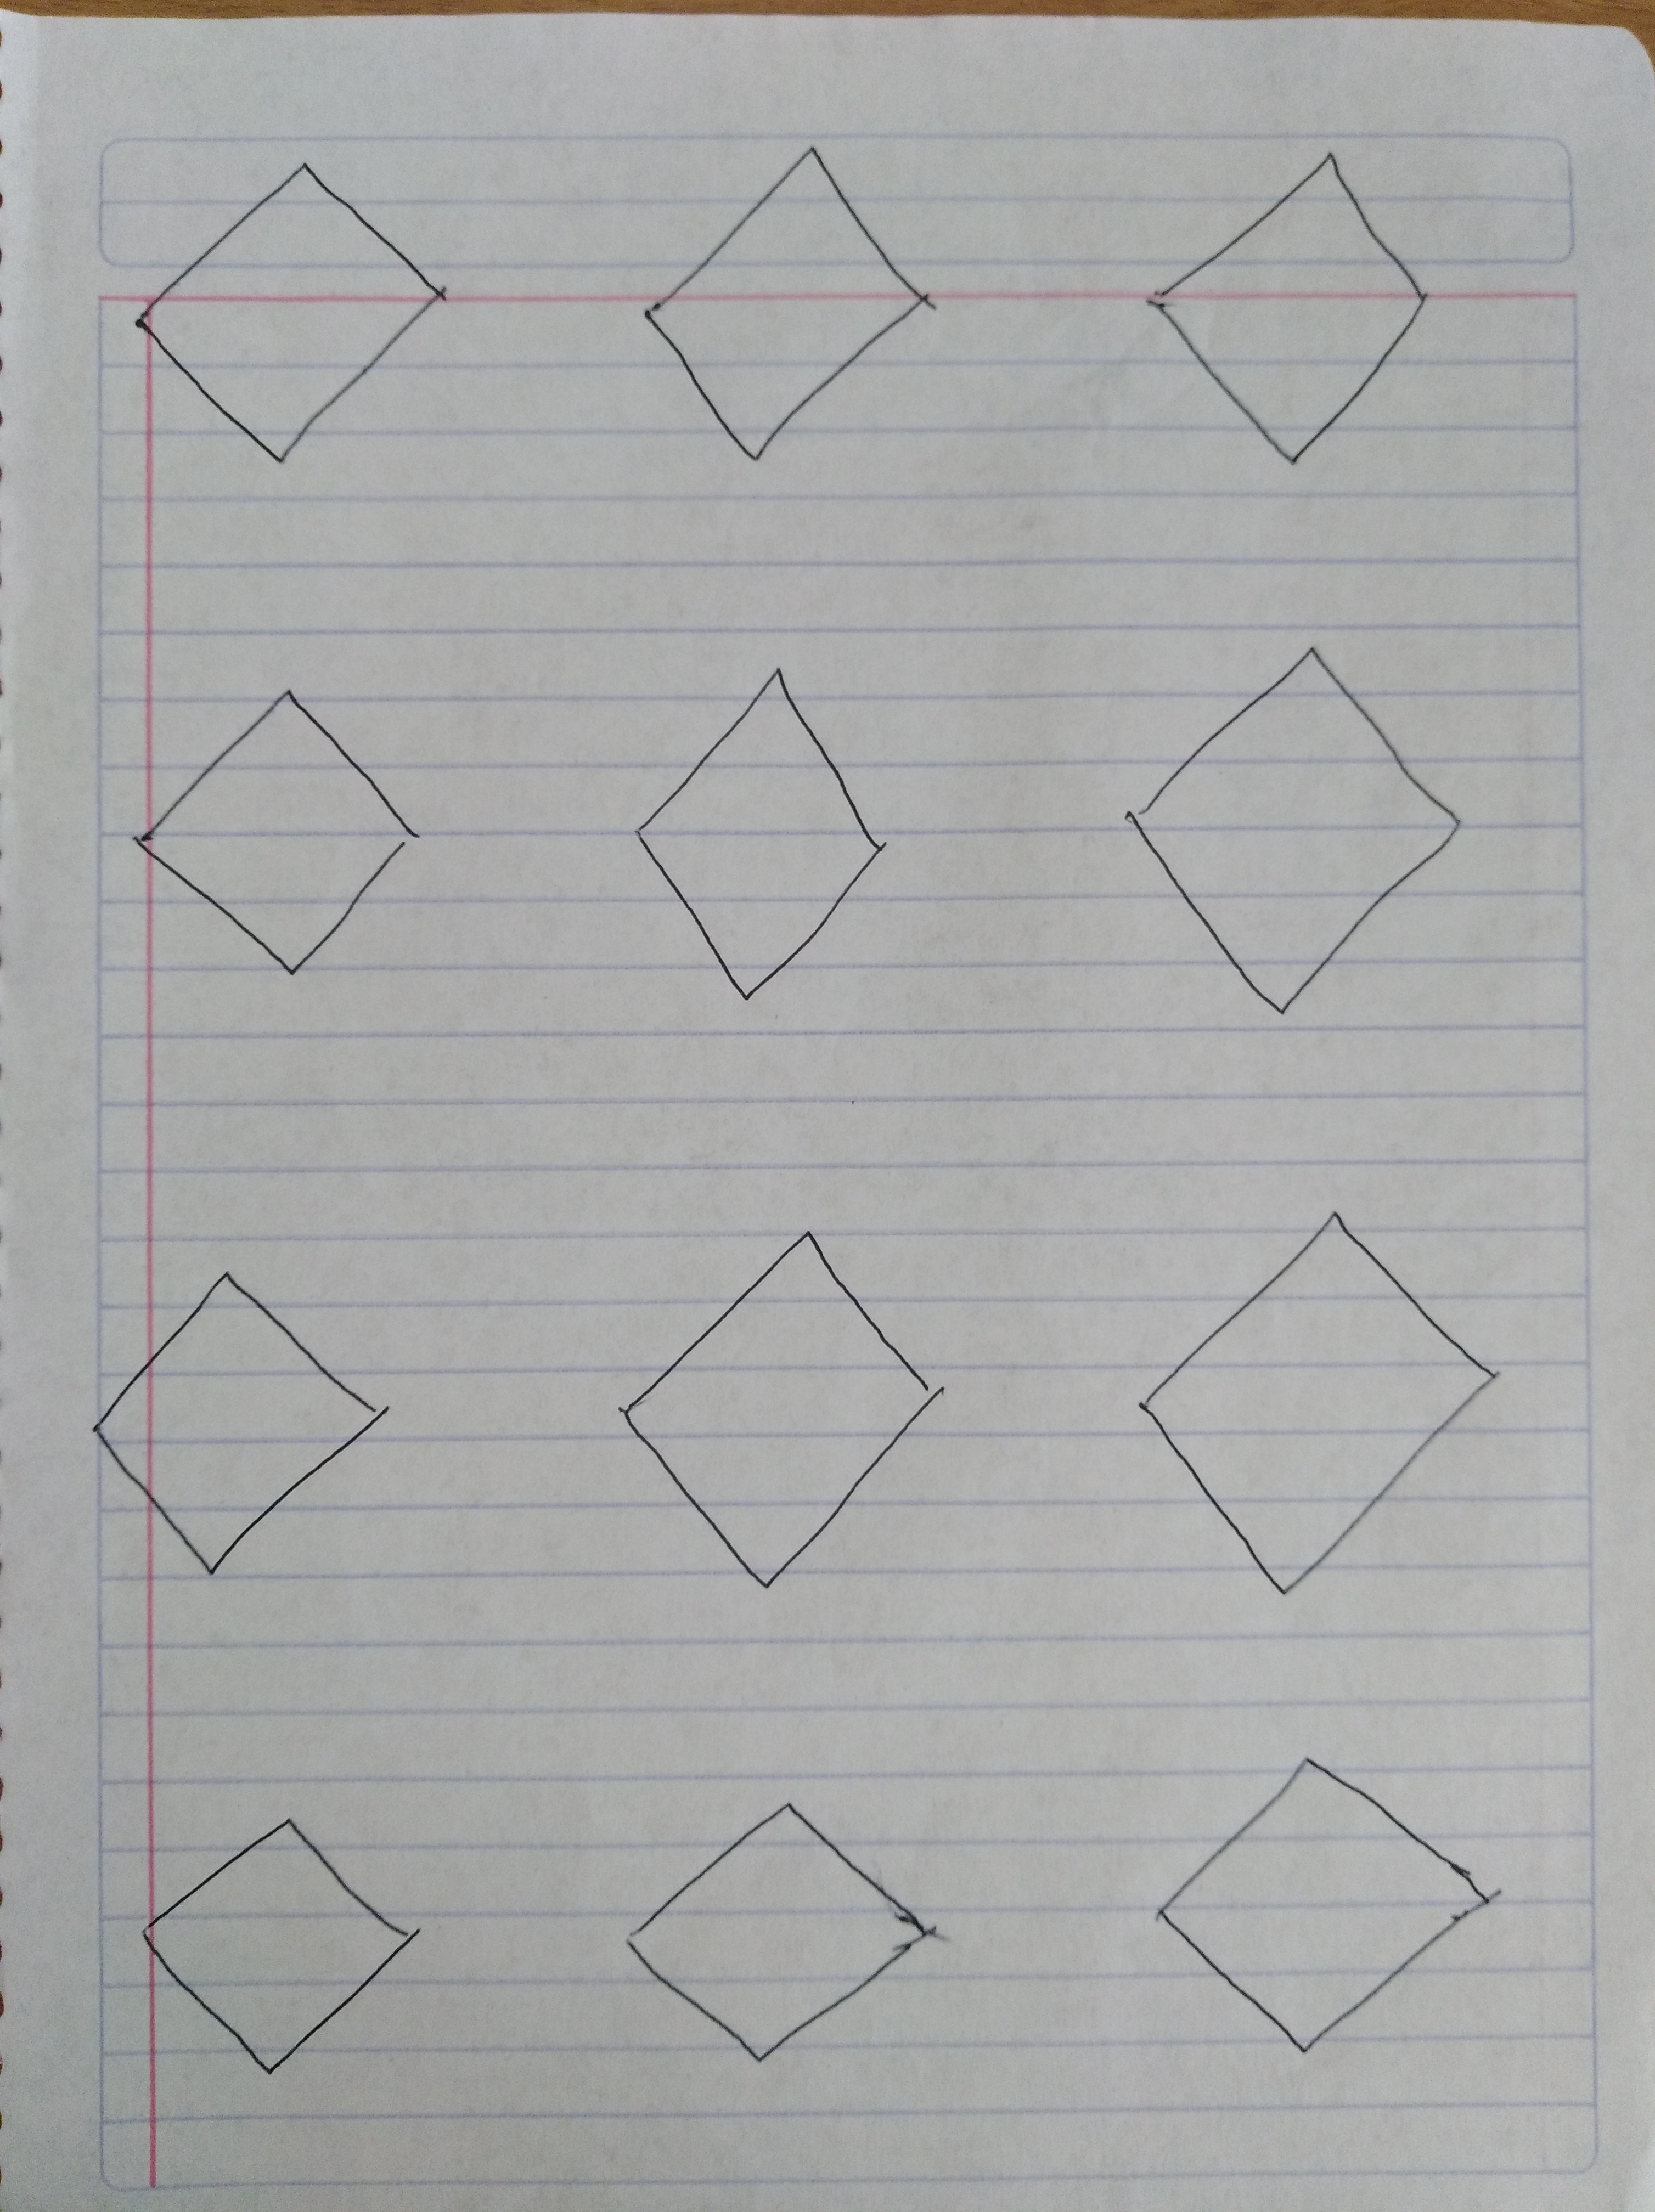decision: (1118, 1178, 1532, 1614), (1093, 617, 1505, 1034), (575, 1202, 986, 1613), (1097, 123, 1495, 493), (1121, 1736, 1528, 2078), (63, 1239, 424, 1604), (90, 660, 482, 997), (99, 139, 476, 485), (97, 1790, 494, 2113), (622, 122, 951, 490), (600, 645, 916, 1018), (593, 1783, 968, 2090)
